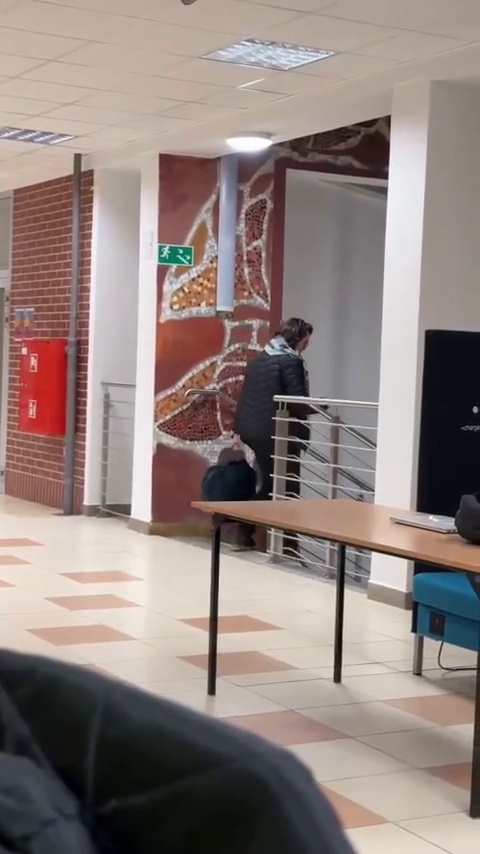no vest: (223, 308, 320, 553)
